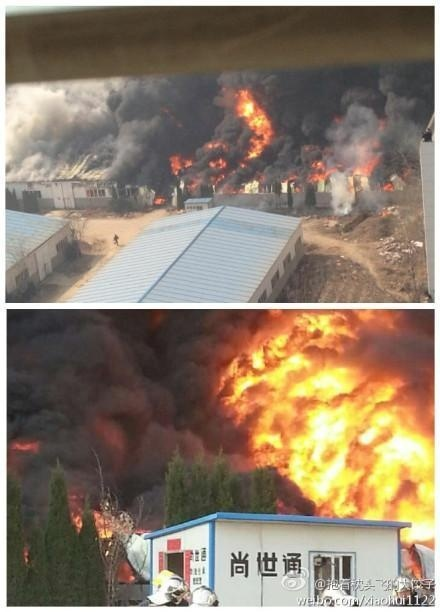fire: (223, 310, 433, 521), (184, 88, 277, 189), (170, 154, 192, 172)
